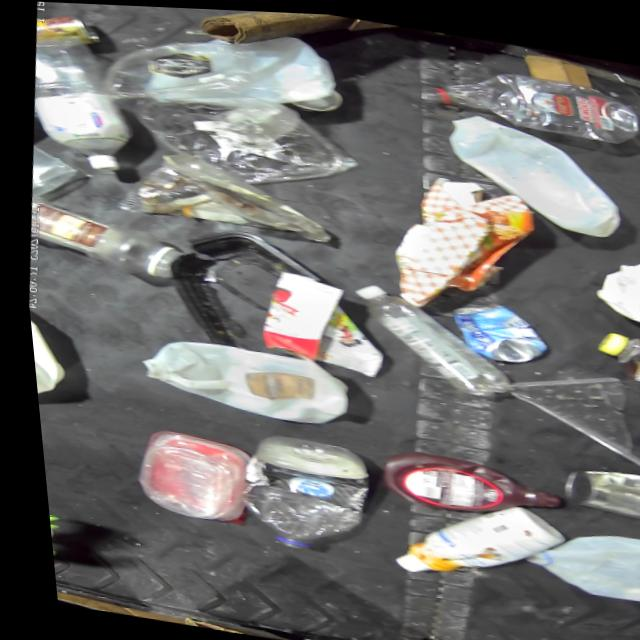can: (435, 289, 538, 360), (543, 455, 640, 513)
milk_jug: (432, 104, 631, 237), (123, 330, 340, 423), (514, 513, 640, 598)
non_white_jug: (367, 444, 542, 521)
plastic_bottle: (328, 275, 521, 400), (418, 50, 640, 141)
